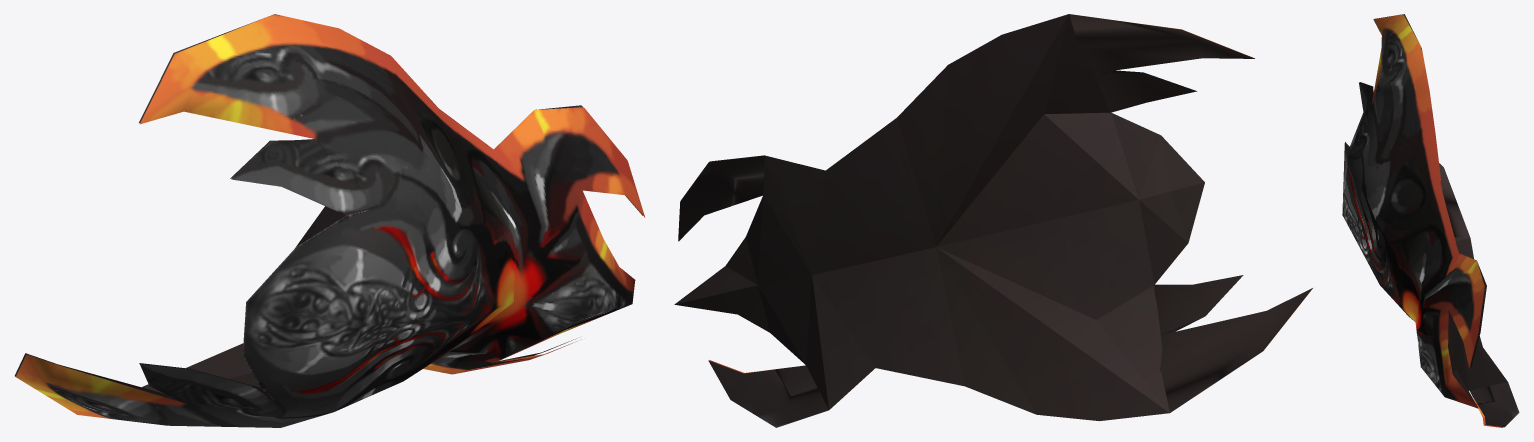
File: Double_B3_001_L.FBX
3 renders of one model, left to right at view 1: azimuth 30°, elevation 25°; view 2: azimuth 150°, elevation 25°; view 3: azimuth 270°, elevation 25°, orthographic. The views are drawn at different scales.
Visible parts, largest first — view 1: Double_B3_001_L; view 2: Double_B3_001_L; view 3: Double_B3_001_L.
Part boxes in pixels (x1,y1,x2,y2): Double_B3_001_L: (14,14,645,427); Double_B3_001_L: (674,14,1312,427); Double_B3_001_L: (1342,14,1519,427).
Size of the model in its own units: 57.24 by 38.96 by 21.56.
